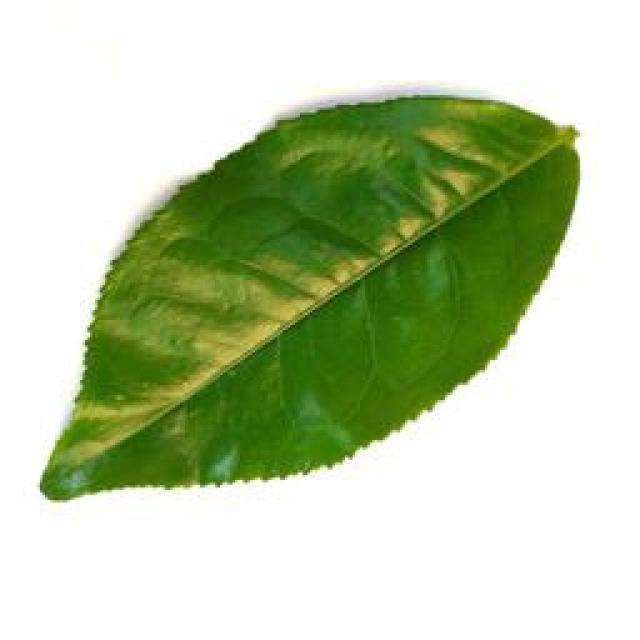Healthy: (28, 88, 588, 516)
